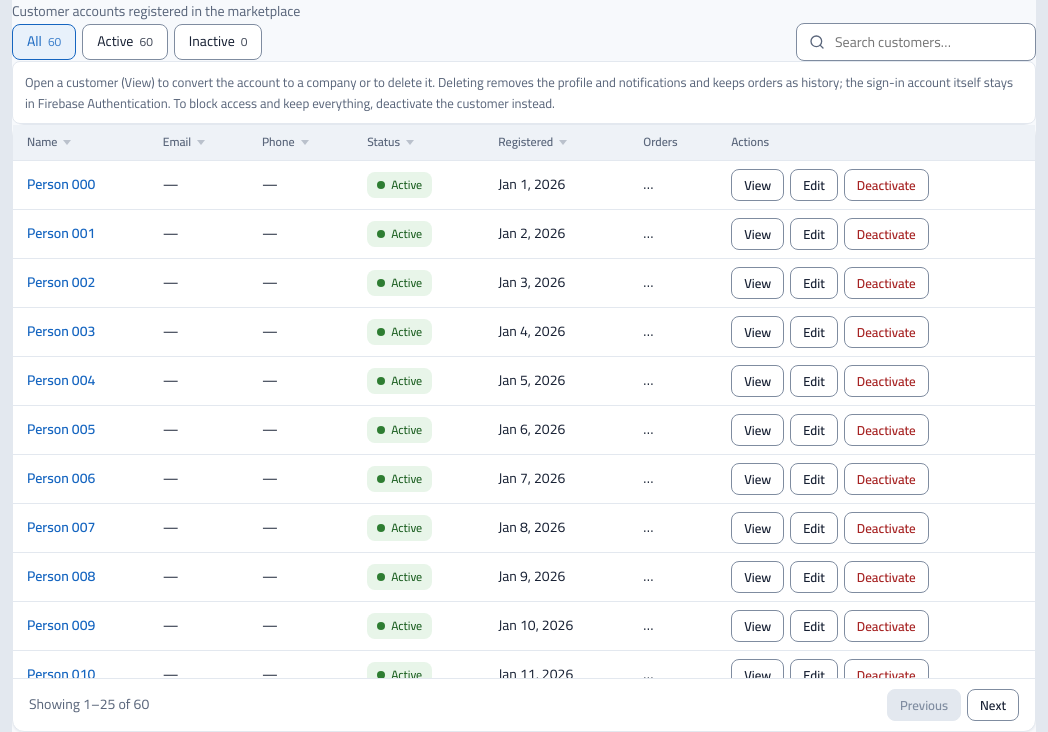
Test case: the customer list, a page at a time › goes back to the first page when the search changes
(page scrolled)
Click the button "Next": coordinates (993, 705) [967,689,1019,721]
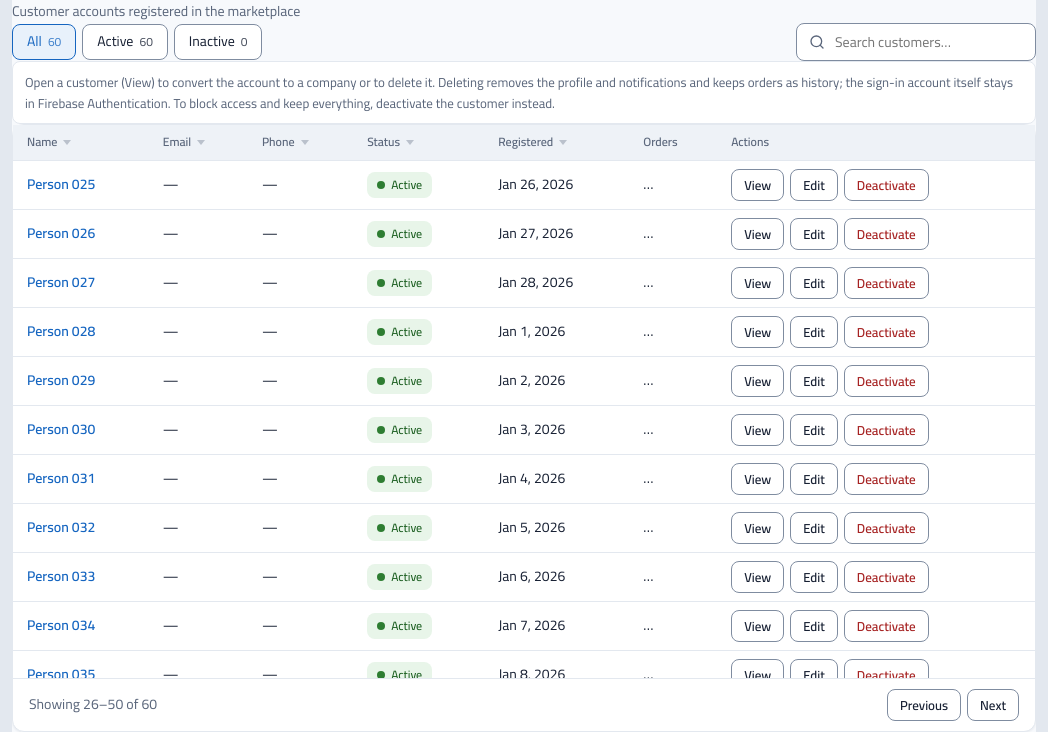
In the search field with placeholder "Search customers…": coordinates (928, 42) [833,24,1023,60], type "Person 0"
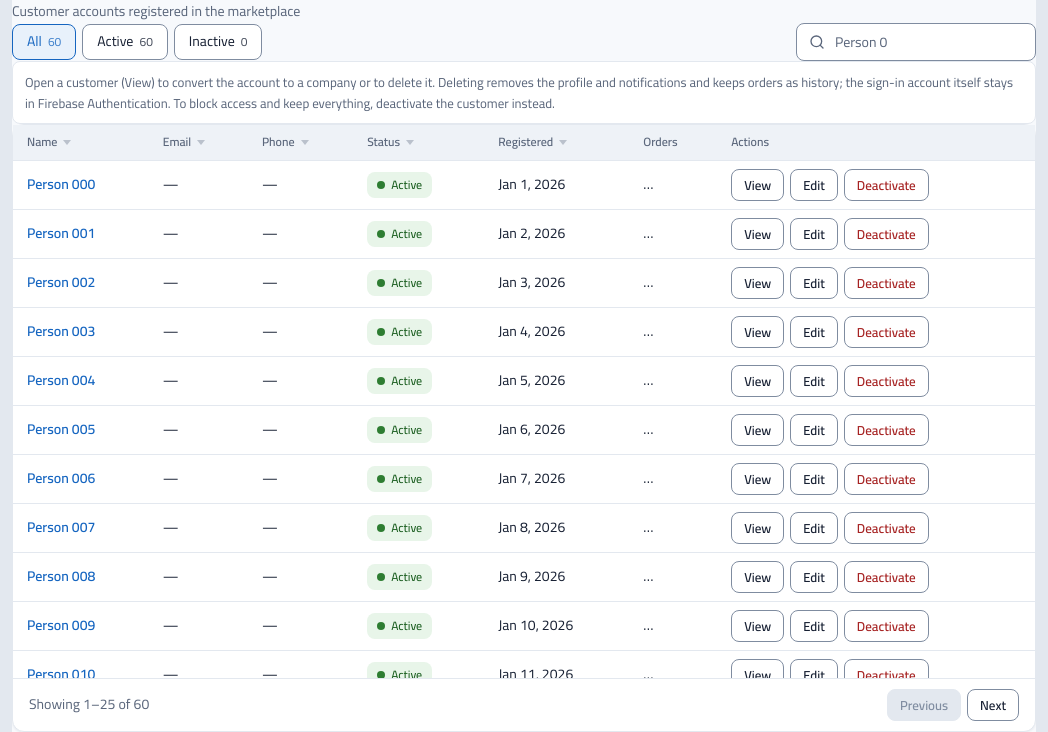
expect the text with class "muted" reads "Showing 1–25 of 60": met, box [29,691,149,717]
Replace the text in the search field with placeholder "Search customers…" with "Person 05": coordinates (928, 42) [833,24,1023,60]
(page scrolled)
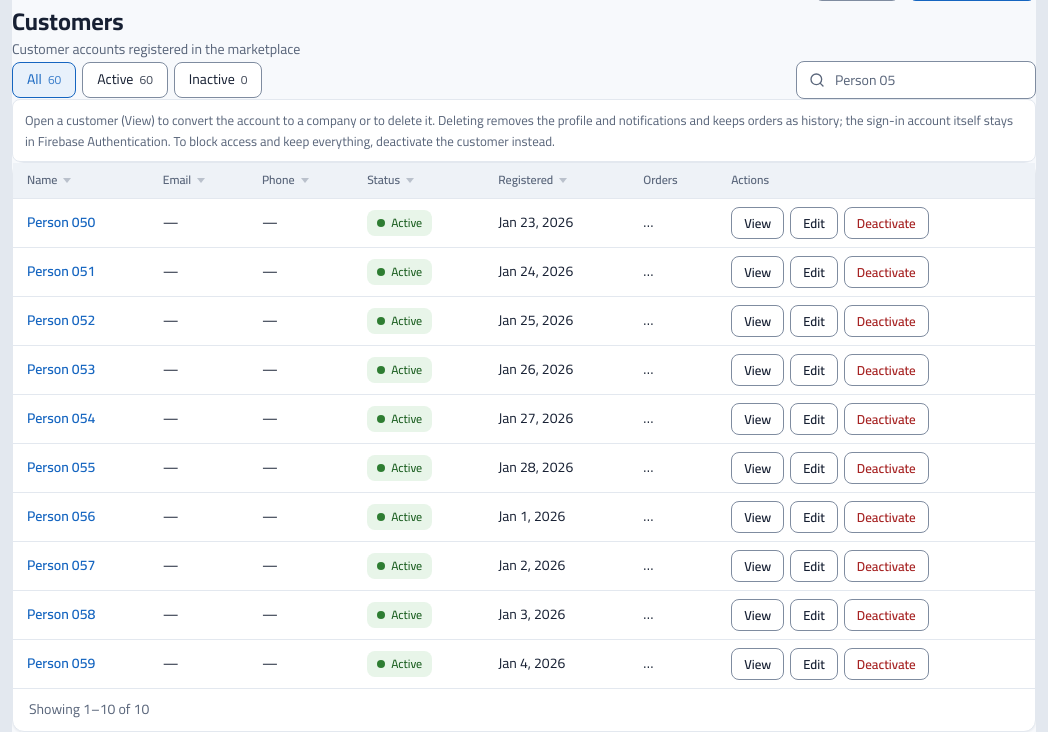
expect the text with class "muted" reads "Showing 1–10 of 10": met, box [29,696,149,722]
